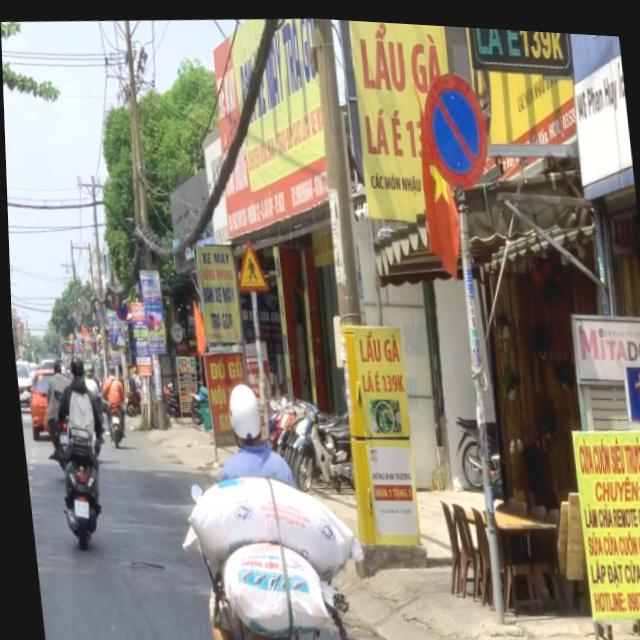Cam do xe: (417, 62, 493, 193)
Nguoi di bo cat ngang: (228, 233, 268, 293)
